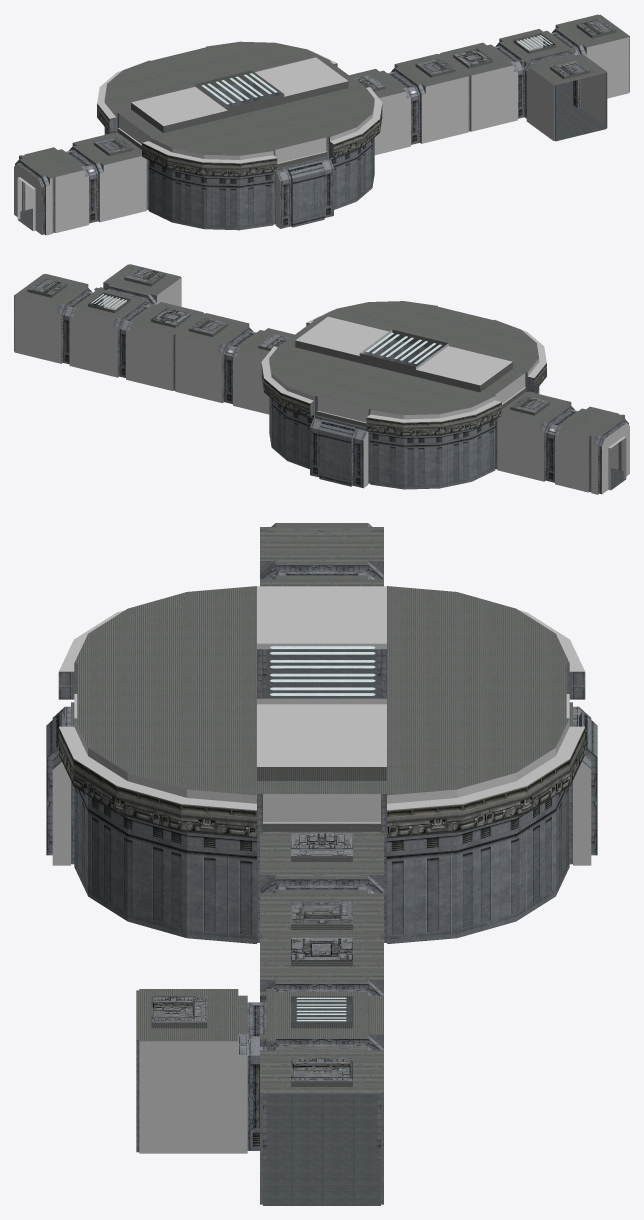
File: poi_all_impl_bunker_imperial_prison_s01_r5_guardpost01_mesh_r5.fbx
The picture shows the model from 3 angles, top to bottom: view 1: azimuth 30°, elevation 25°; view 2: azimuth 150°, elevation 25°; view 3: azimuth 270°, elevation 25°; orthographic projection. The views are drawn at different scales.
Visible parts, largest first — view 1: mesh_node; view 2: mesh_node; view 3: mesh_node.
Part boxes in pixels (box(x1,y1,x2,y2)): mesh_node: box(14, 14, 629, 235); mesh_node: box(14, 264, 629, 494); mesh_node: box(46, 523, 597, 1205).
Bounding box in the file's own units: 44 × 6 × 17.8.
